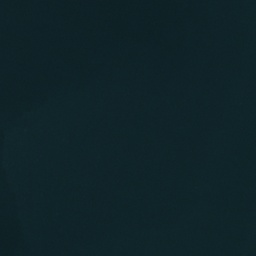Marine Debris: (0, 160, 4, 168), (5, 180, 9, 184), (2, 149, 6, 153), (9, 128, 12, 131)
